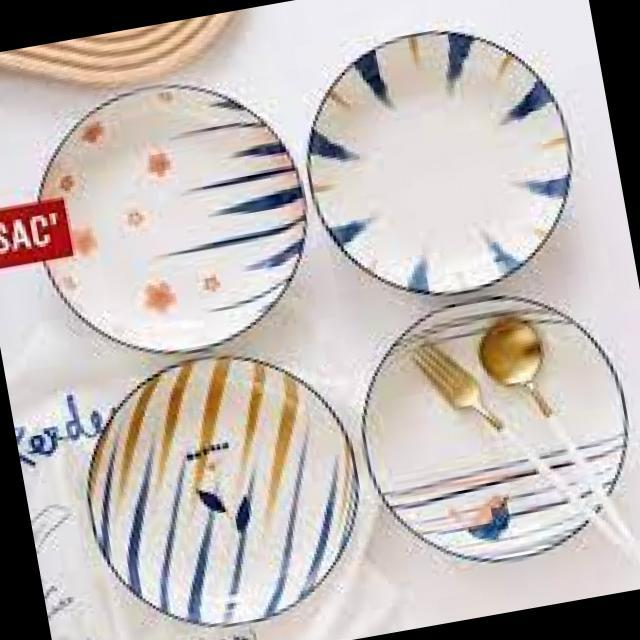plate: (368, 298, 640, 566), (88, 360, 357, 623), (314, 28, 569, 302), (40, 87, 305, 347)
